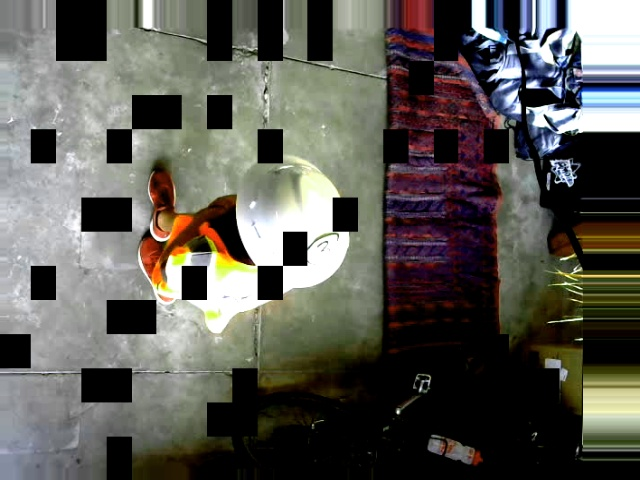three: (304, 232, 339, 264)
